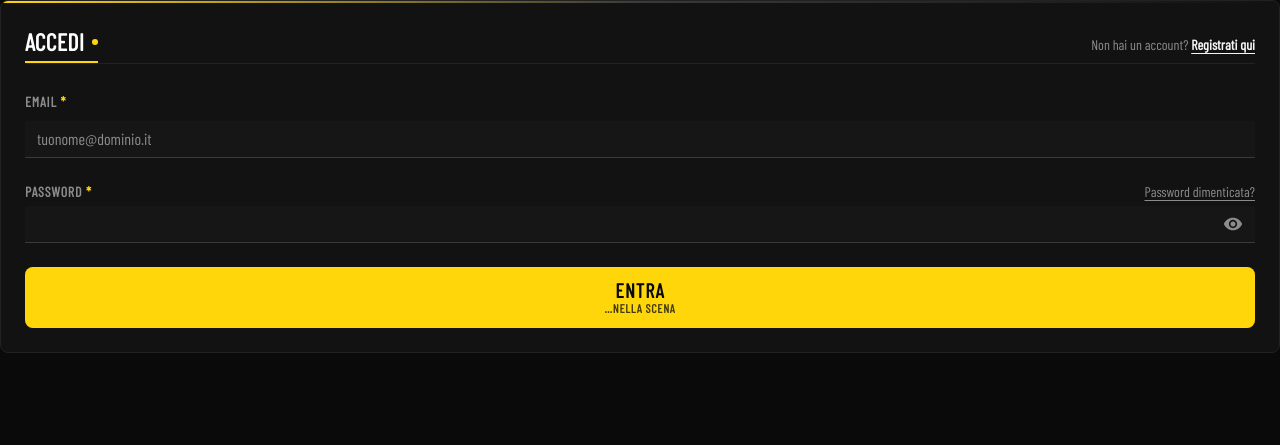
Scenario: LoginPage › INVALID_CREDENTIALS mostra il messaggio generico, non tenta il refresh e resta nella pagina
This screenshot has width=1280, height=445.
In the field labelled "Email": {"x": 640, "y": 139} [25,121,1255,158], type "fan@example.com"
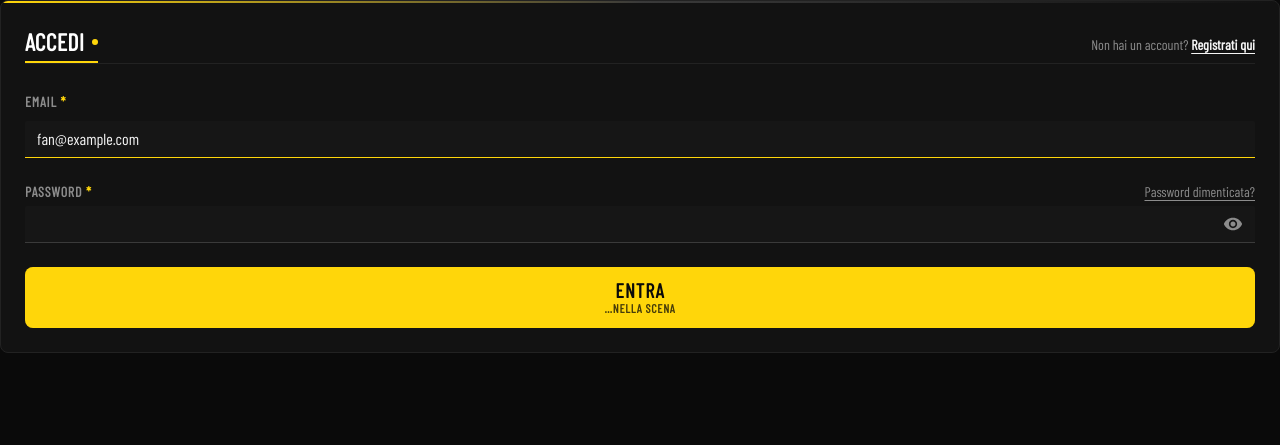
In the password field labelled "Password": {"x": 640, "y": 224} [25,206,1255,243], type "sbagliata-1"
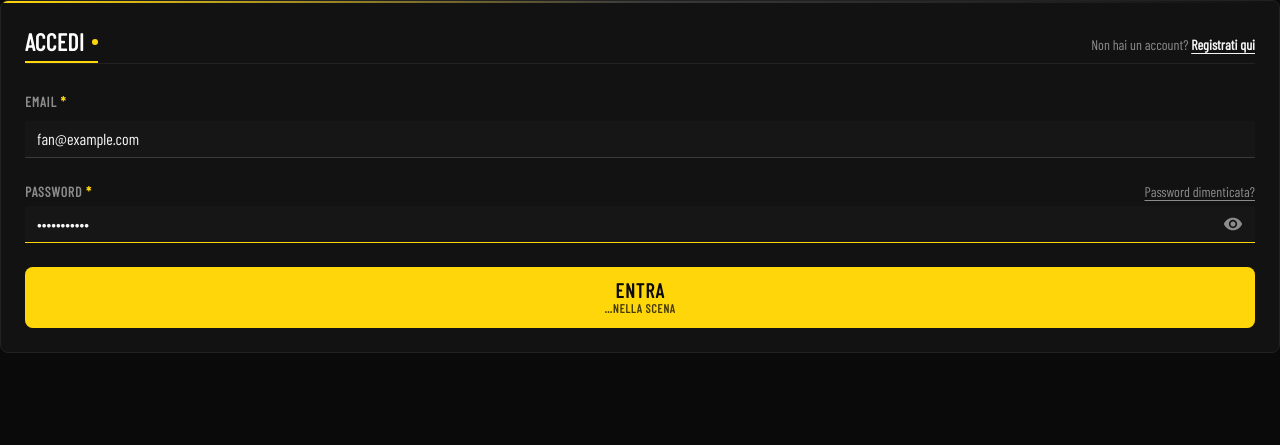
Click the button "Entra …nella scena": {"x": 640, "y": 298} [25,267,1255,328]
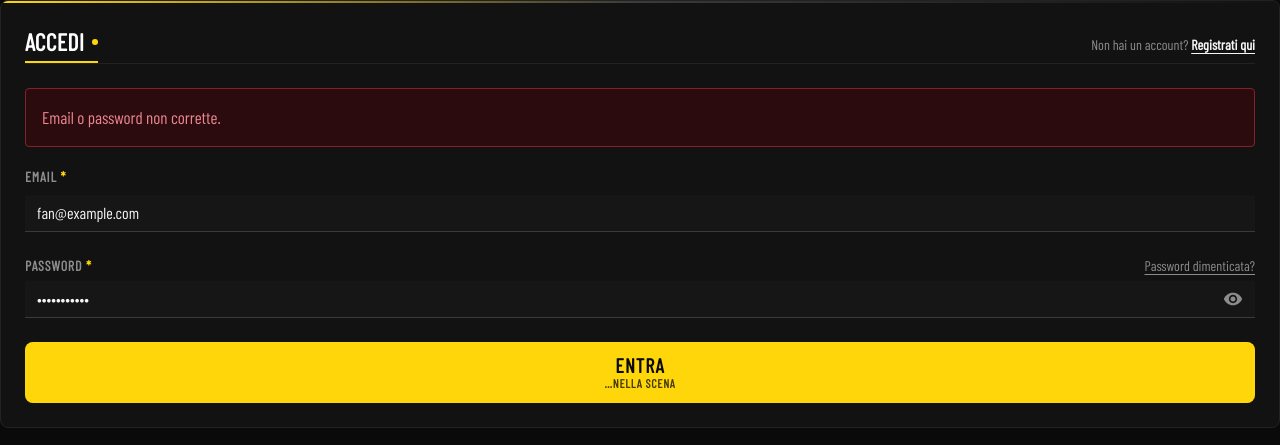
Expected: the heading "Accedi" is shown, [25,29,98,63]
Expected: the text "Email o password non corrette." is shown, [25,88,1255,147]
